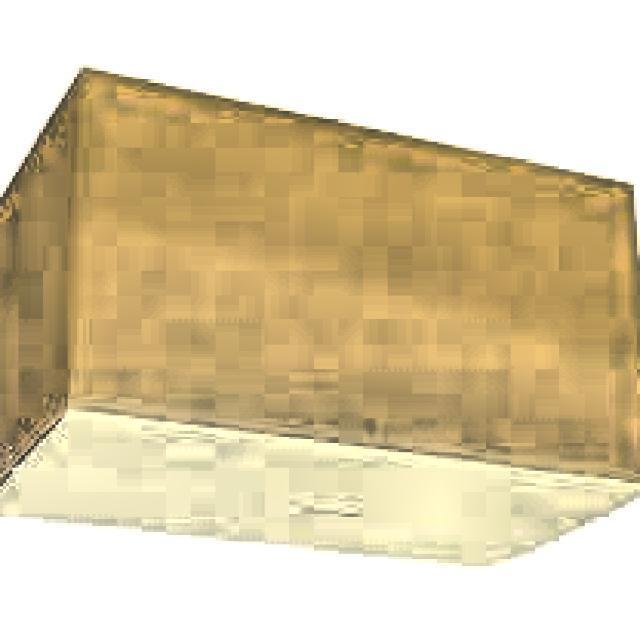cardboard: (0, 68, 640, 572)
